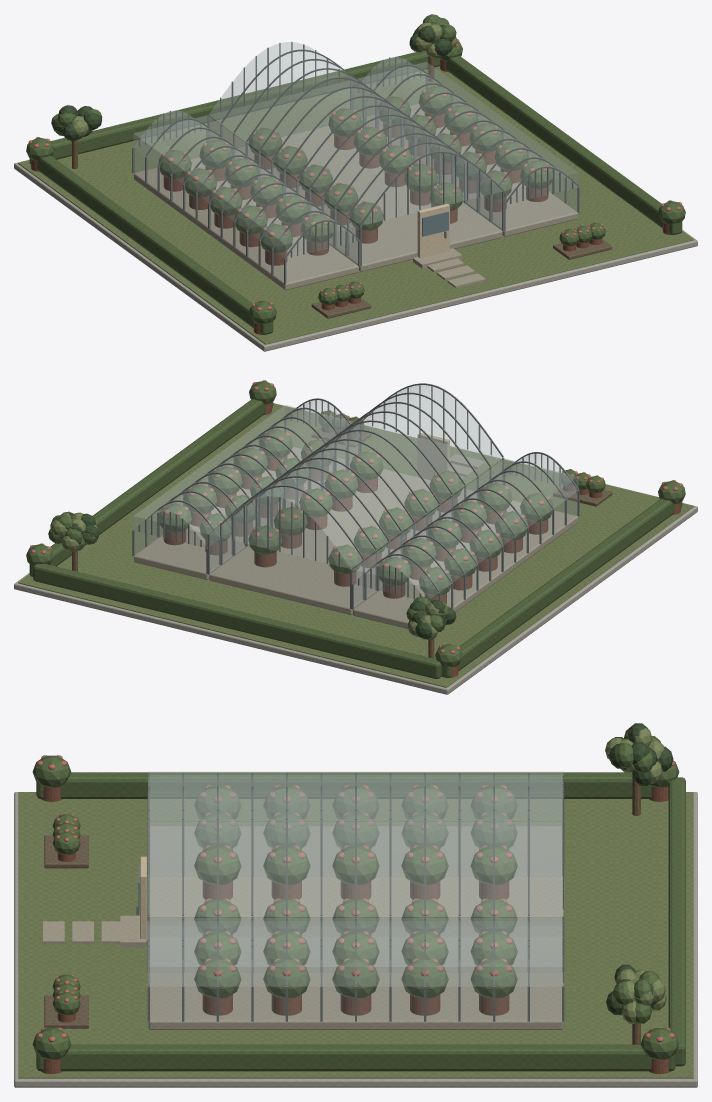
Rendered from EXP_BOTANICAL.glb.
3 views of the same model, one above another, from view 1: azimuth 30°, elevation 25°; view 2: azimuth 150°, elevation 25°; view 3: azimuth 270°, elevation 25° (orthographic). The views are drawn at different scales.
Parts seen in each view (by area): view 1: EXP_BOTANICAL_Visual; view 2: EXP_BOTANICAL_Visual; view 3: EXP_BOTANICAL_Visual.
Boxes of the visible parts, box(x1,y1,x2,y2) form: EXP_BOTANICAL_Visual: box(14, 14, 697, 351); EXP_BOTANICAL_Visual: box(14, 380, 697, 694); EXP_BOTANICAL_Visual: box(14, 723, 697, 1087).
Size of what is drawn, in the model's own units: 7.92 by 1.92 by 7.92.
14 materials, 11 textured.
